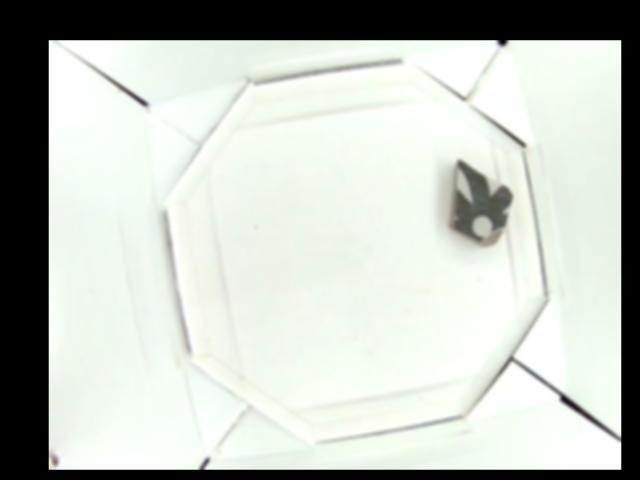China: (447, 158, 516, 243)
